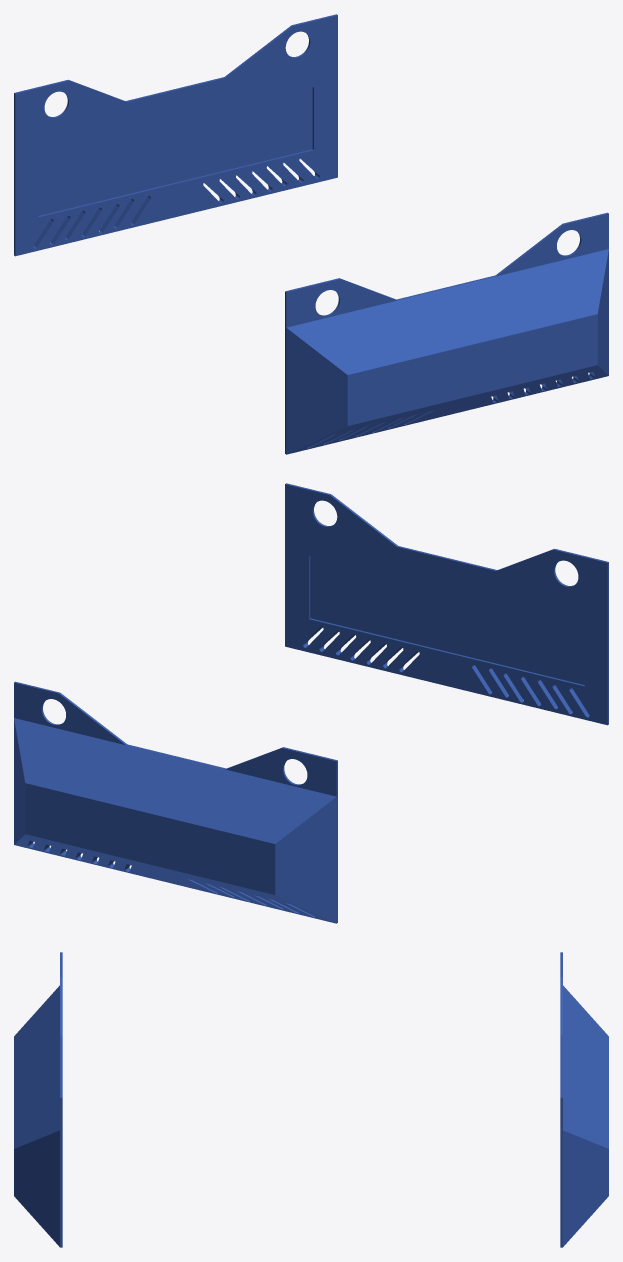
The model's file is bumpers.dae.
3 views of the same model, one above another, from view 1: azimuth 30°, elevation 25°; view 2: azimuth 150°, elevation 25°; view 3: azimuth 270°, elevation 25° (orthographic). The views are drawn at different scales.
Parts seen in each view (by area): view 1: 66e3c701f26df133c152ae37 (×2); view 2: 66e3c701f26df133c152ae37 (×2); view 3: 66e3c701f26df133c152ae37 (×2).
Part boxes in pixels (bbox=[...]): 66e3c701f26df133c152ae37 (×2): bbox=[14, 14, 608, 454]; 66e3c701f26df133c152ae37 (×2): bbox=[14, 483, 608, 923]; 66e3c701f26df133c152ae37 (×2): bbox=[14, 952, 608, 1247].
Bounding box in the file's own units: 0.2832 × 0.49 × 0.1362.
